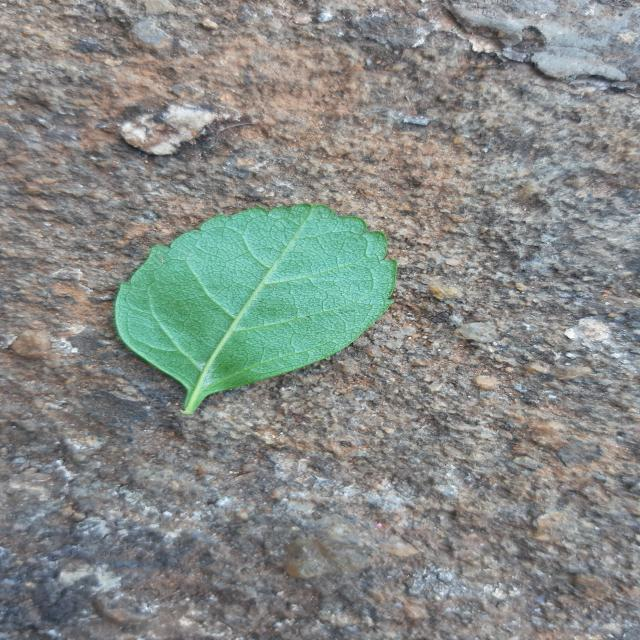tecoma: (116, 204, 398, 414)
